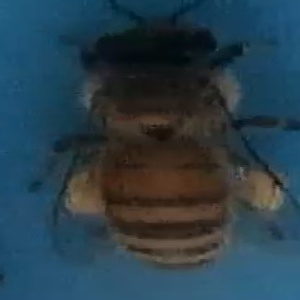bee: (57, 3, 292, 274)
